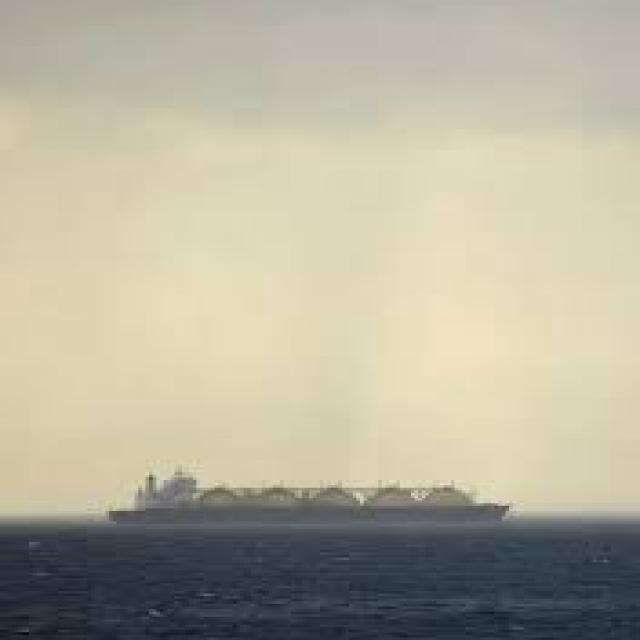cargoship: (106, 458, 508, 528)
